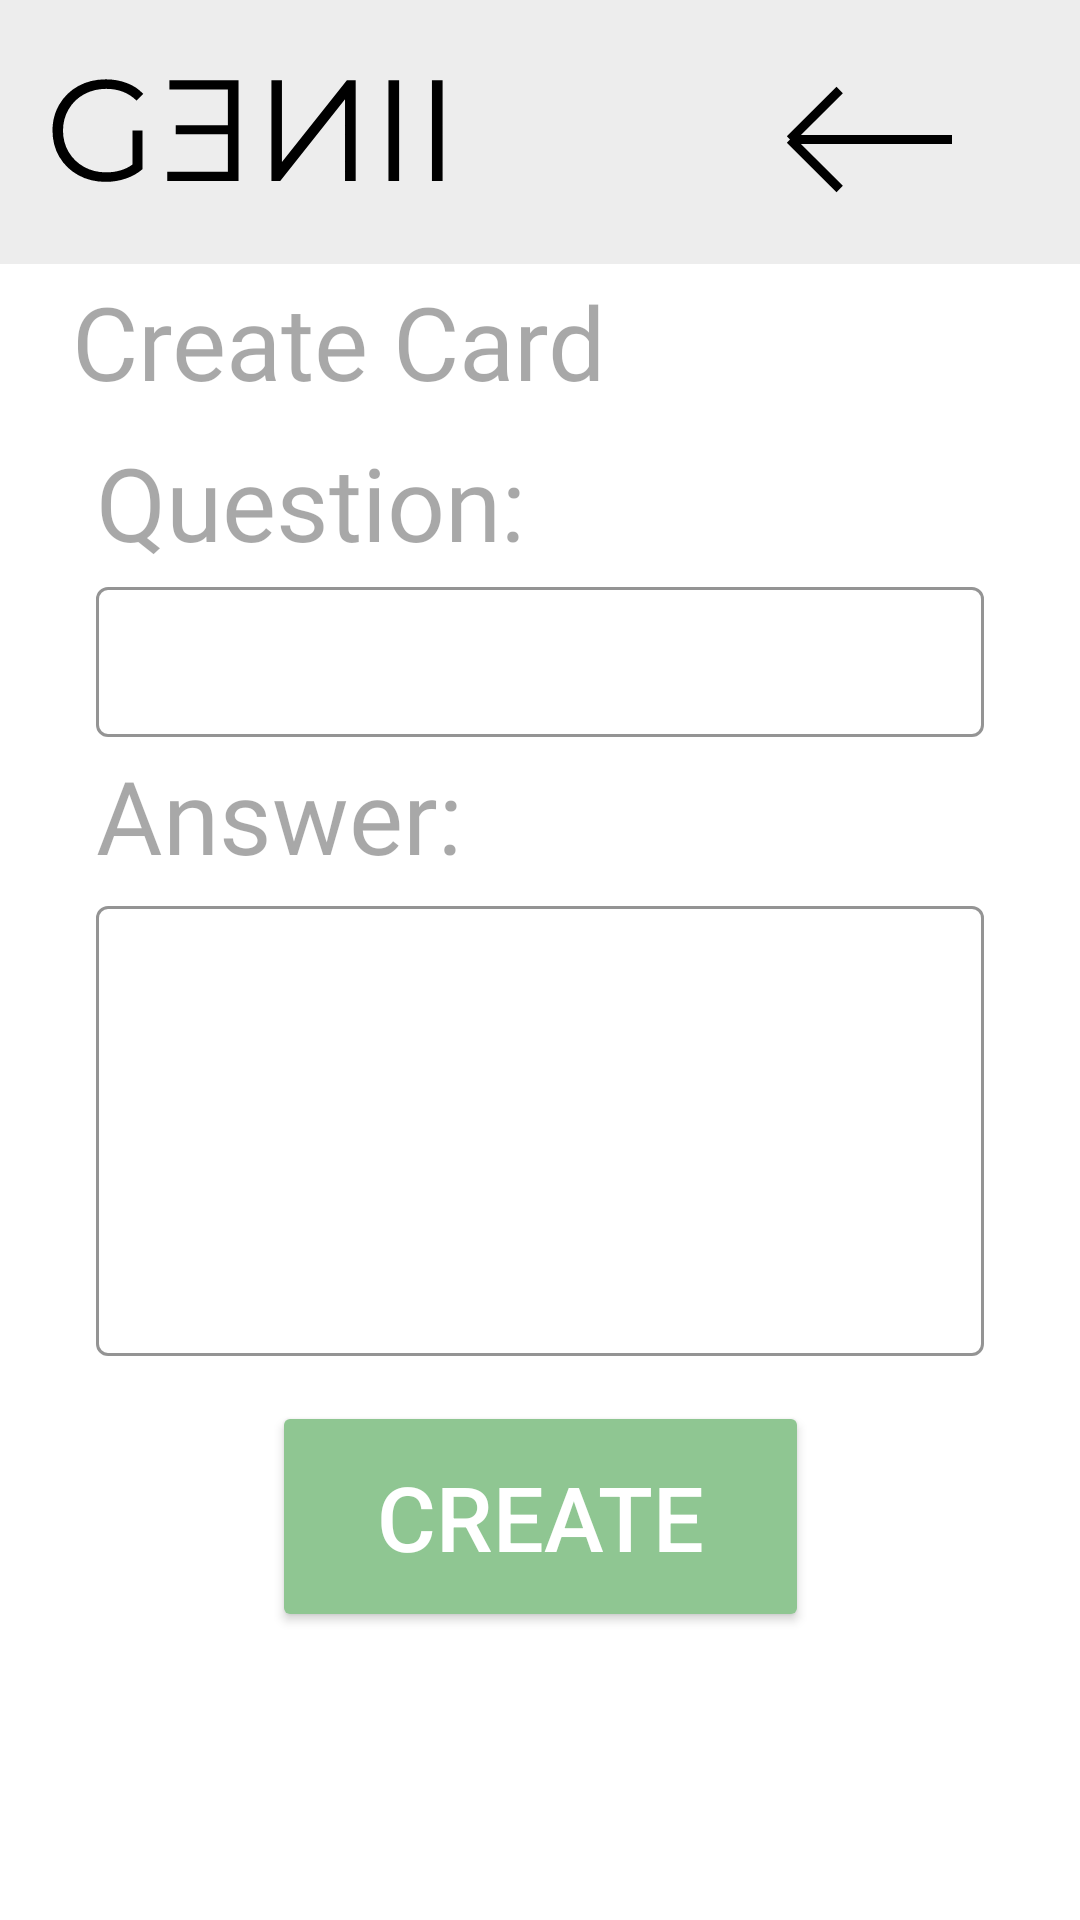

Named icons in this screenshot (1080x1920) and their bounding boxes, (x1, y1, x2, y2):
back: (787, 87, 952, 192)
